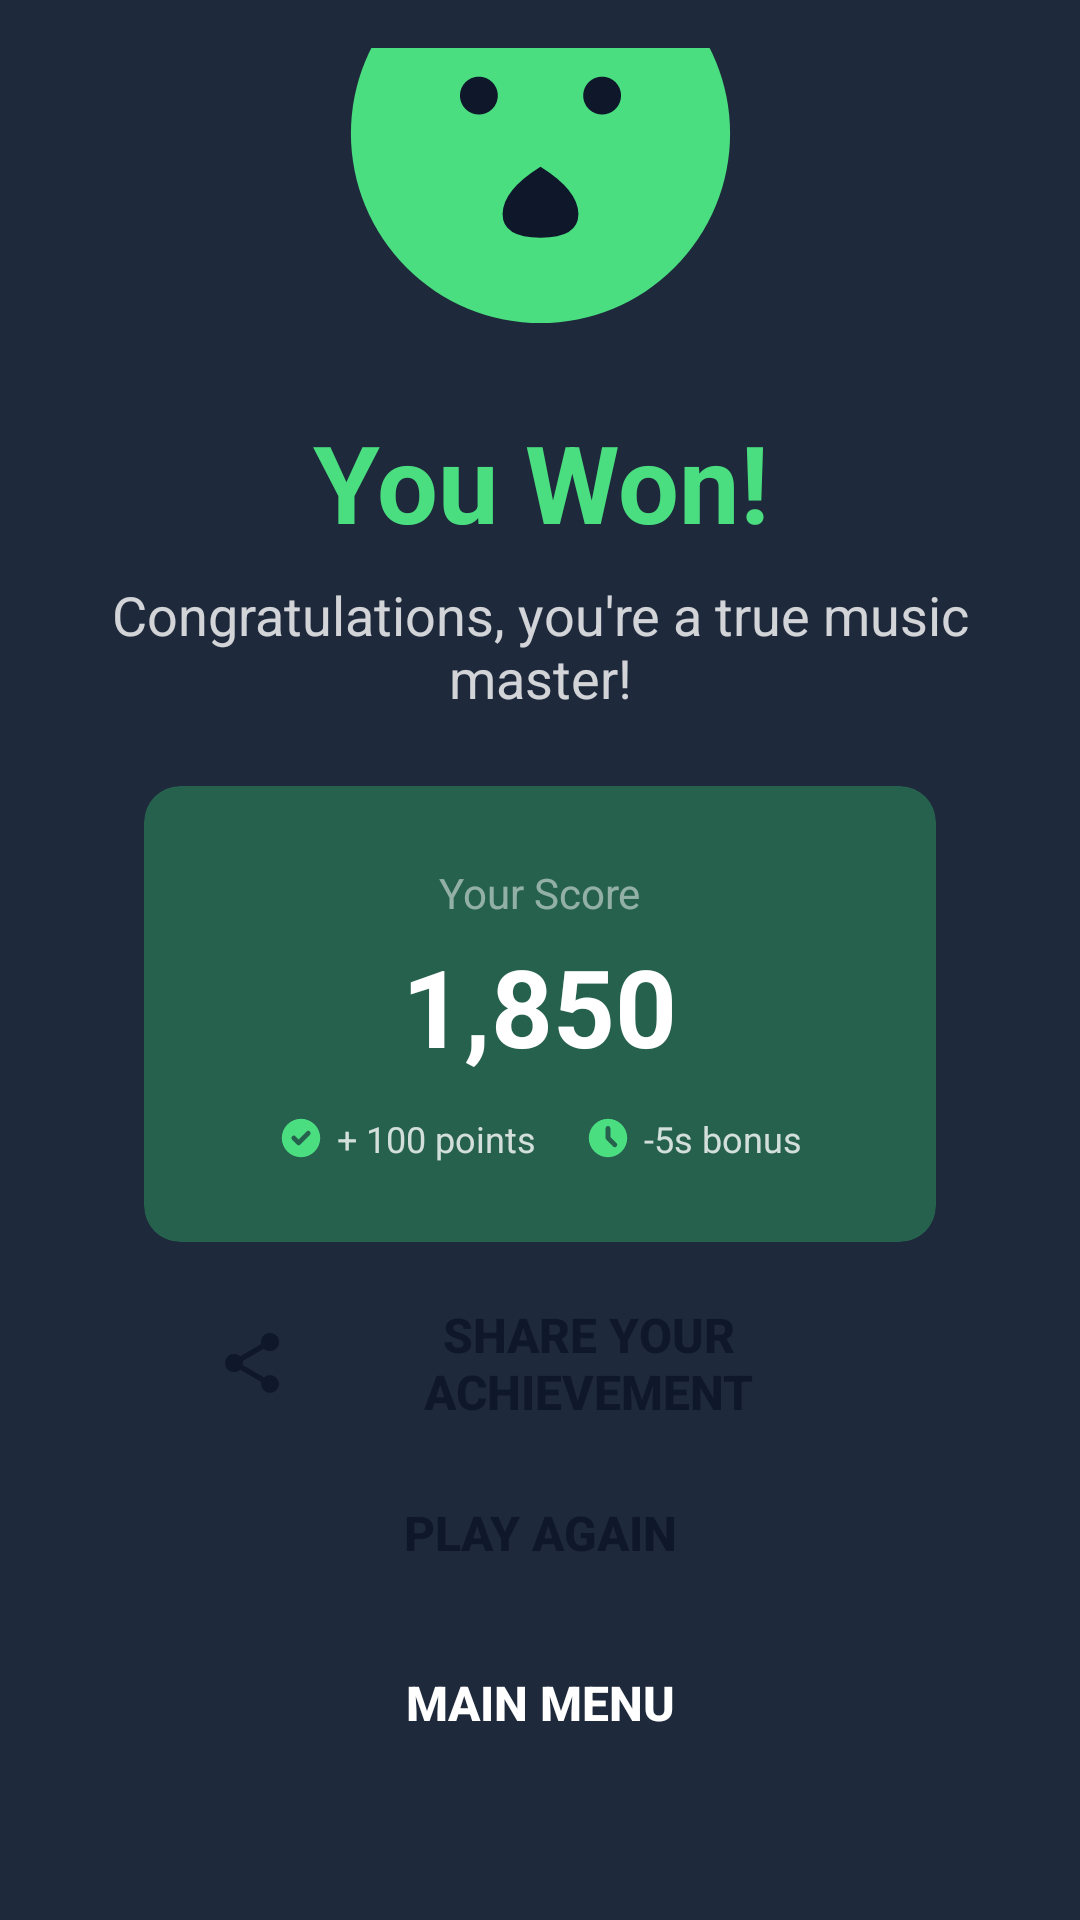

Locate icon controls on the screen. Image size 1080 x 1920, boxes as (x1, y1, x2, y2).
check: (282, 1119, 320, 1157)
timer: (589, 1119, 627, 1157)
